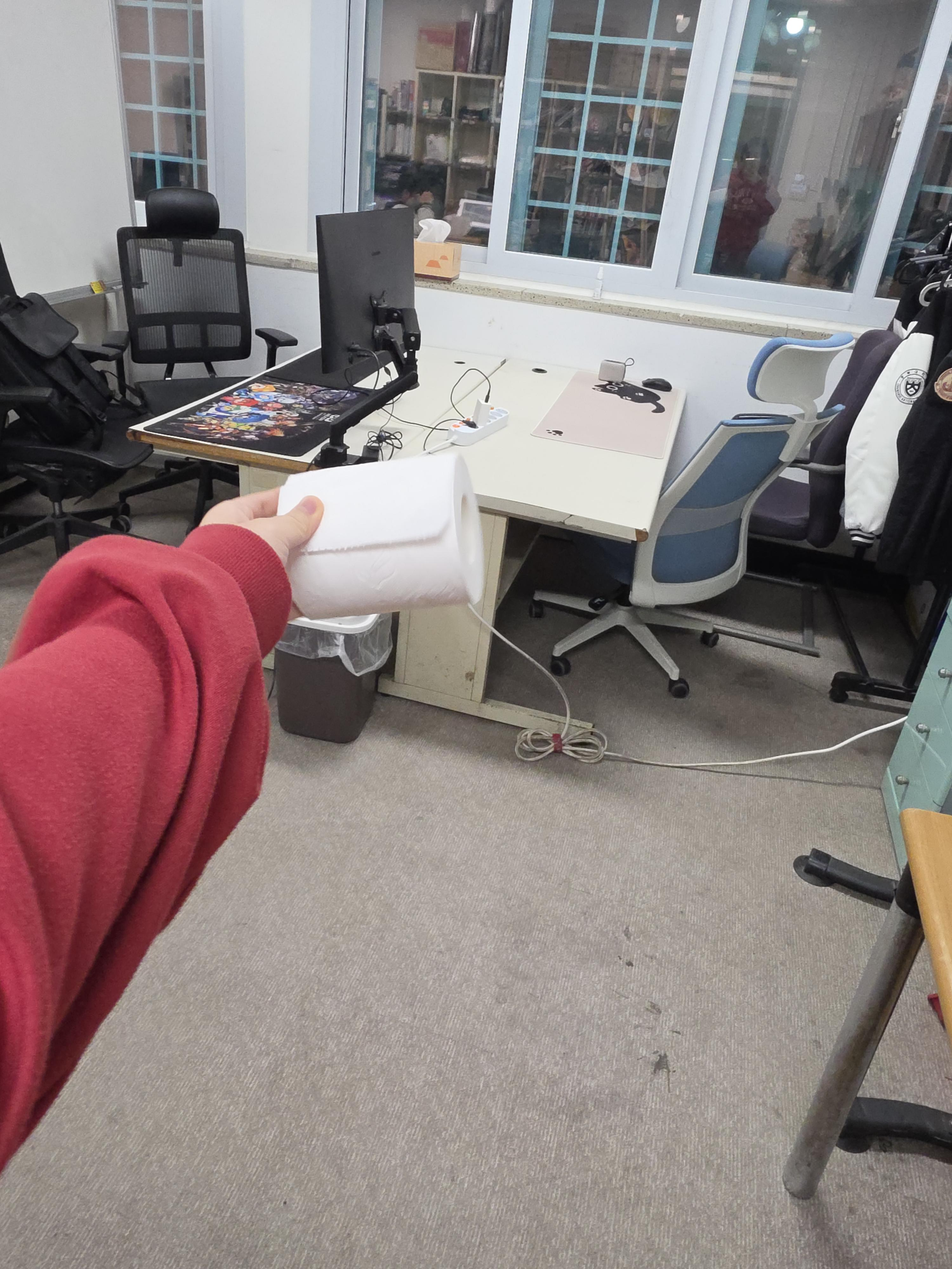tissue: (278, 452, 485, 621), (413, 218, 462, 281)
